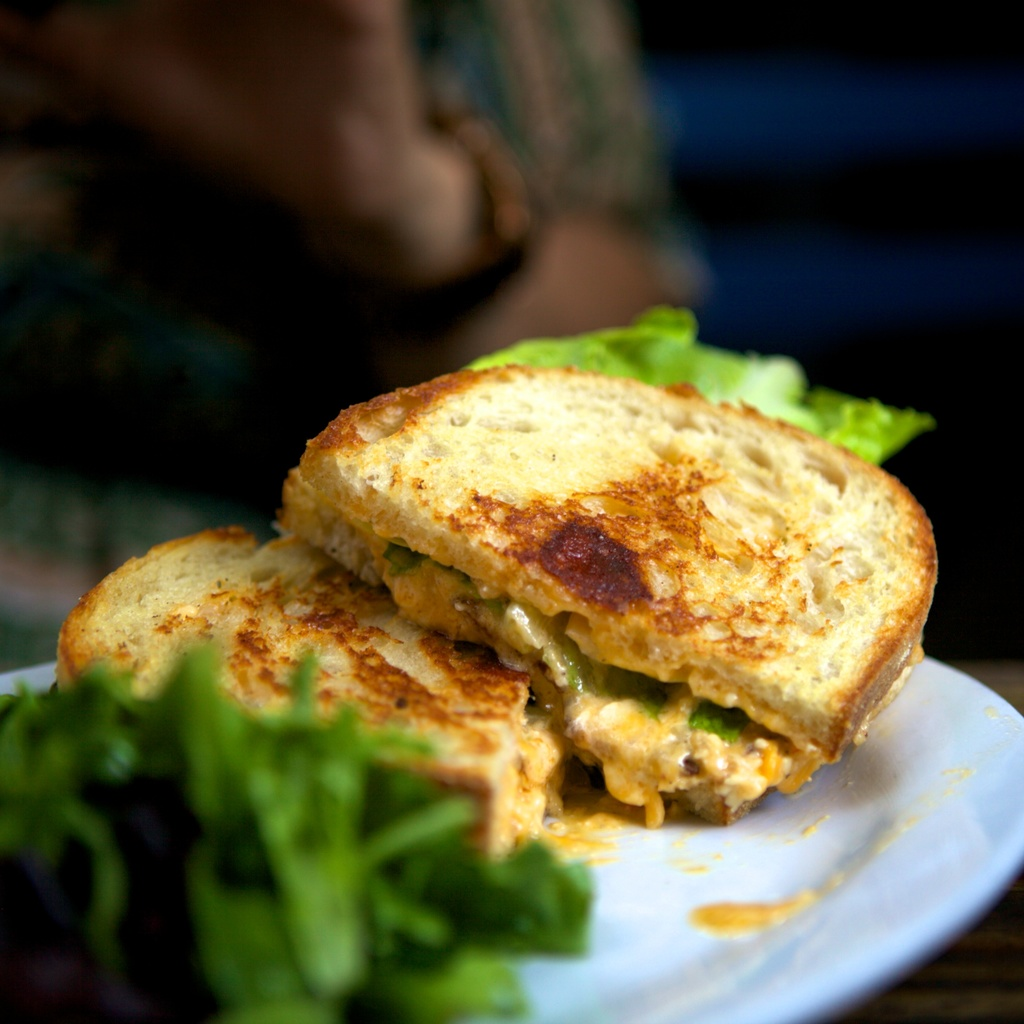sandwich: (297, 362, 942, 827), (57, 529, 575, 860)
